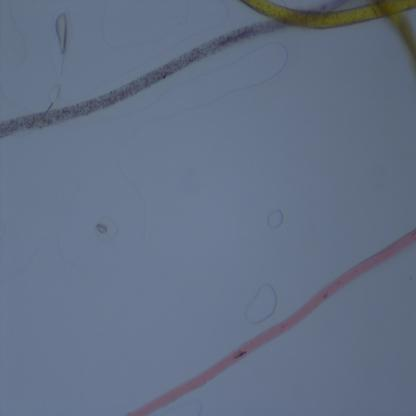Air bubble: (146, 36, 301, 122), (241, 281, 278, 324), (264, 206, 286, 230)
Background material: (54, 13, 70, 60)
Microfibre: (126, 230, 416, 414), (0, 20, 284, 140), (239, 0, 416, 29), (389, 13, 416, 72)
